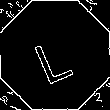L_NW: (31, 26, 79, 84)
